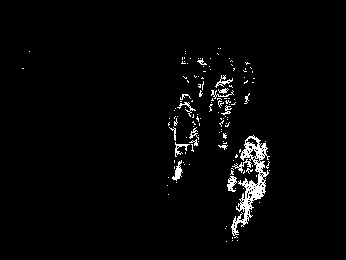person: (227, 136, 271, 241), (167, 94, 201, 181), (210, 73, 237, 149)
